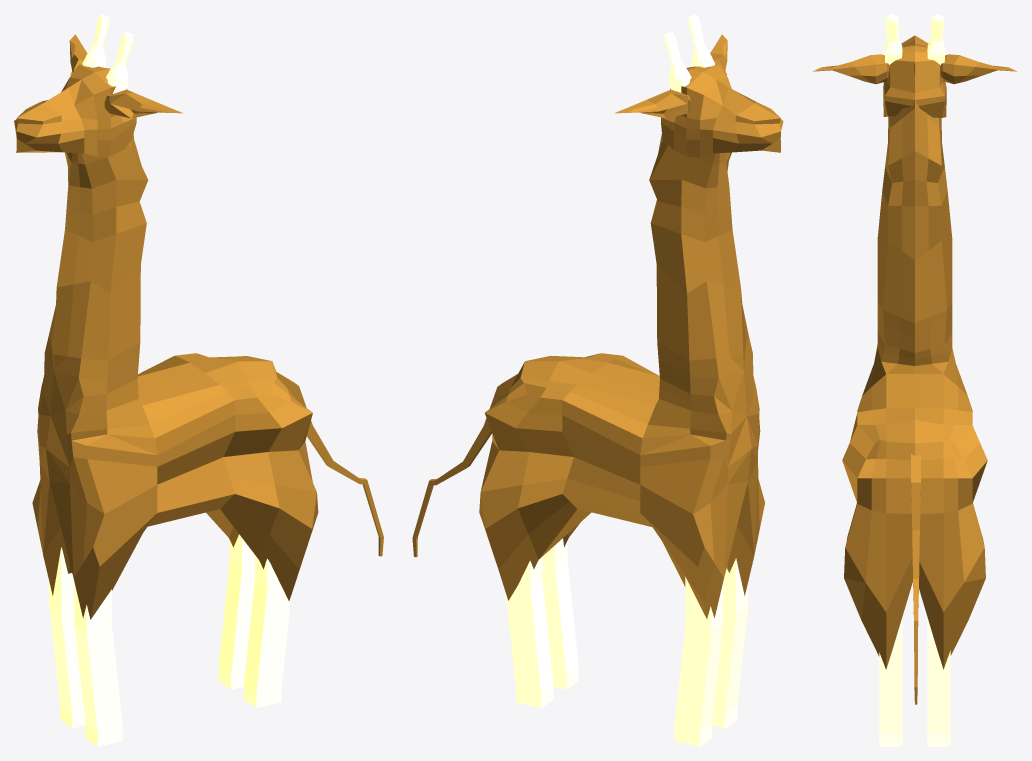
The model's file is girafe.glb.
3 views of the same model, side by side, from view 1: azimuth 30°, elevation 25°; view 2: azimuth 150°, elevation 25°; view 3: azimuth 270°, elevation 25° (orthographic). The views are drawn at different scales.
Visible parts, largest first — view 1: Corps, pates, Tete, oreilles, Cornes; view 2: Corps, pates, Tete, oreilles, Cornes; view 3: Corps, pates, Tete, oreilles, Cornes.
Part boxes in pixels (bbox=[...]): Corps: bbox=[32, 134, 383, 619]; pates: bbox=[49, 534, 291, 746]; Tete: bbox=[14, 64, 136, 156]; oreilles: bbox=[69, 34, 182, 118]; Cornes: bbox=[82, 14, 133, 93]; Corps: bbox=[412, 134, 764, 618]; pates: bbox=[506, 538, 748, 746]; Tete: bbox=[661, 64, 783, 156]; oreilles: bbox=[614, 34, 727, 118]; Cornes: bbox=[664, 14, 715, 92]; Corps: bbox=[842, 62, 987, 704]; pates: bbox=[879, 617, 950, 746]; Tete: bbox=[883, 35, 946, 117]; oreilles: bbox=[813, 54, 1016, 84]; Cornes: bbox=[885, 14, 944, 65].
Size of the model in its own units: 4.81 by 8.77 by 2.46.
